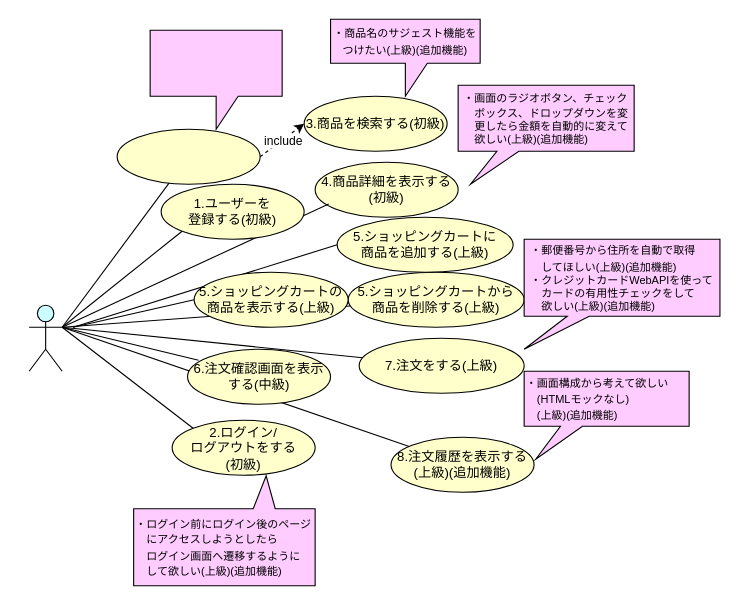
Image size: 739x605. Some labels were removed from this diagram. The shapes that lost their labels are listed below. From the top down, each one's centre as x and y in pixels, then its label:
pixel 215 79: ・ページング機能をつけたい(上級)(追加機能) ・並び順を選択して変えたい(上級)(追加機能)
pixel 188 156: 3.商品一覧を表示する(初級)
pixel 45 337: ユーザー
